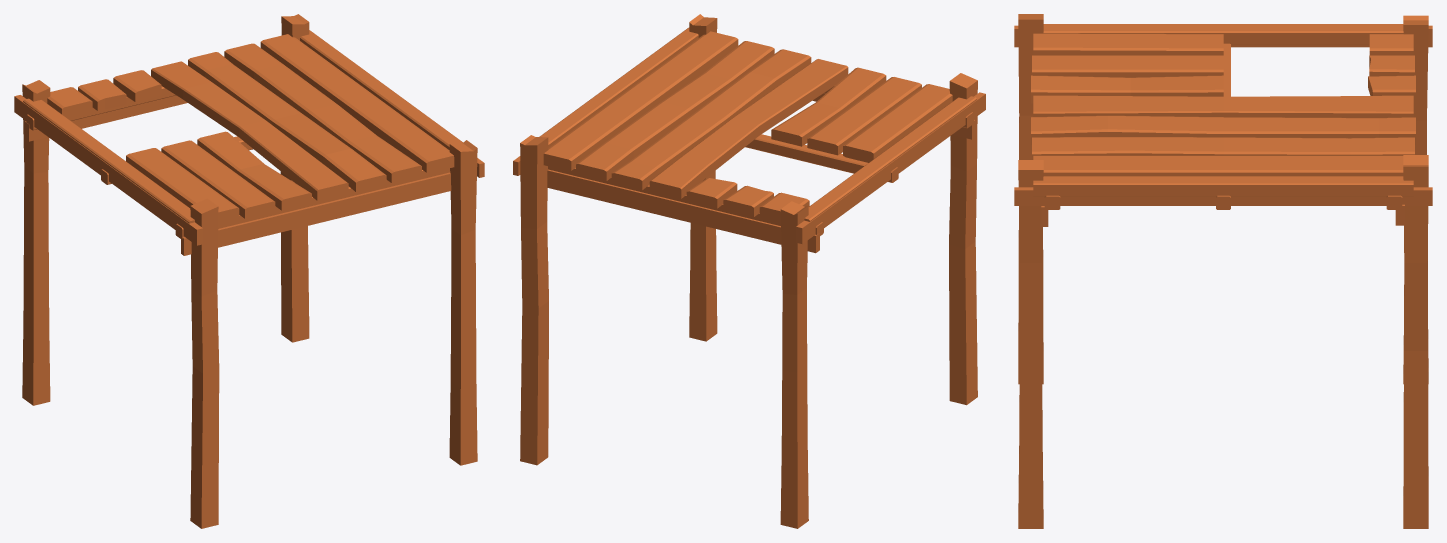
Rendered from Wood Base 6.glb.
3 renders of one model, left to right at view 1: azimuth 30°, elevation 25°; view 2: azimuth 150°, elevation 25°; view 3: azimuth 270°, elevation 25°, orthographic. The views are drawn at different scales.
Parts seen in each view (by area): view 1: WoodBase6; view 2: WoodBase6; view 3: WoodBase6.
Part boxes in pixels (bbox=[...]): WoodBase6: bbox=[14, 14, 484, 528]; WoodBase6: bbox=[513, 14, 985, 528]; WoodBase6: bbox=[1014, 14, 1432, 528].
Size of the model in its own units: 2 by 2.09 by 2.17.
